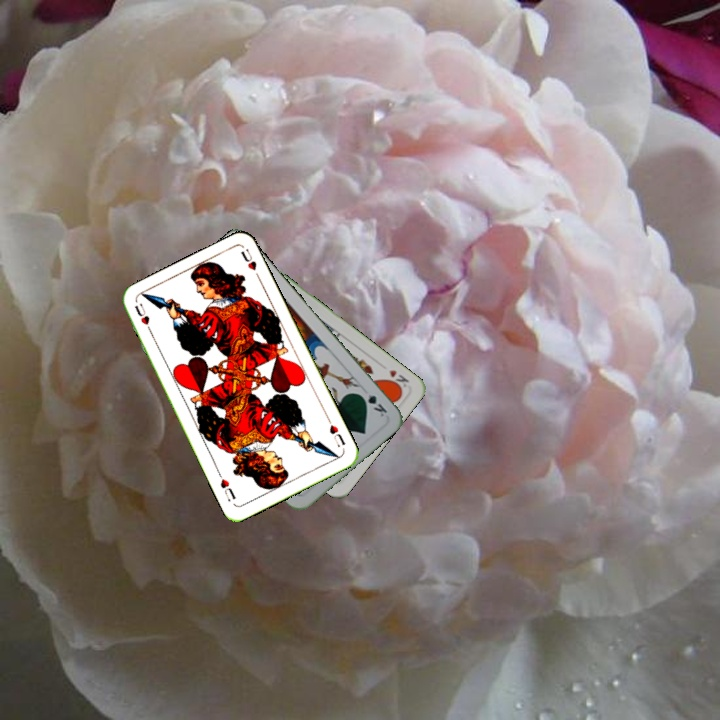GK: (355, 388, 390, 419)
HK: (384, 366, 412, 392)
HU: (130, 299, 155, 337), (323, 414, 348, 450)
